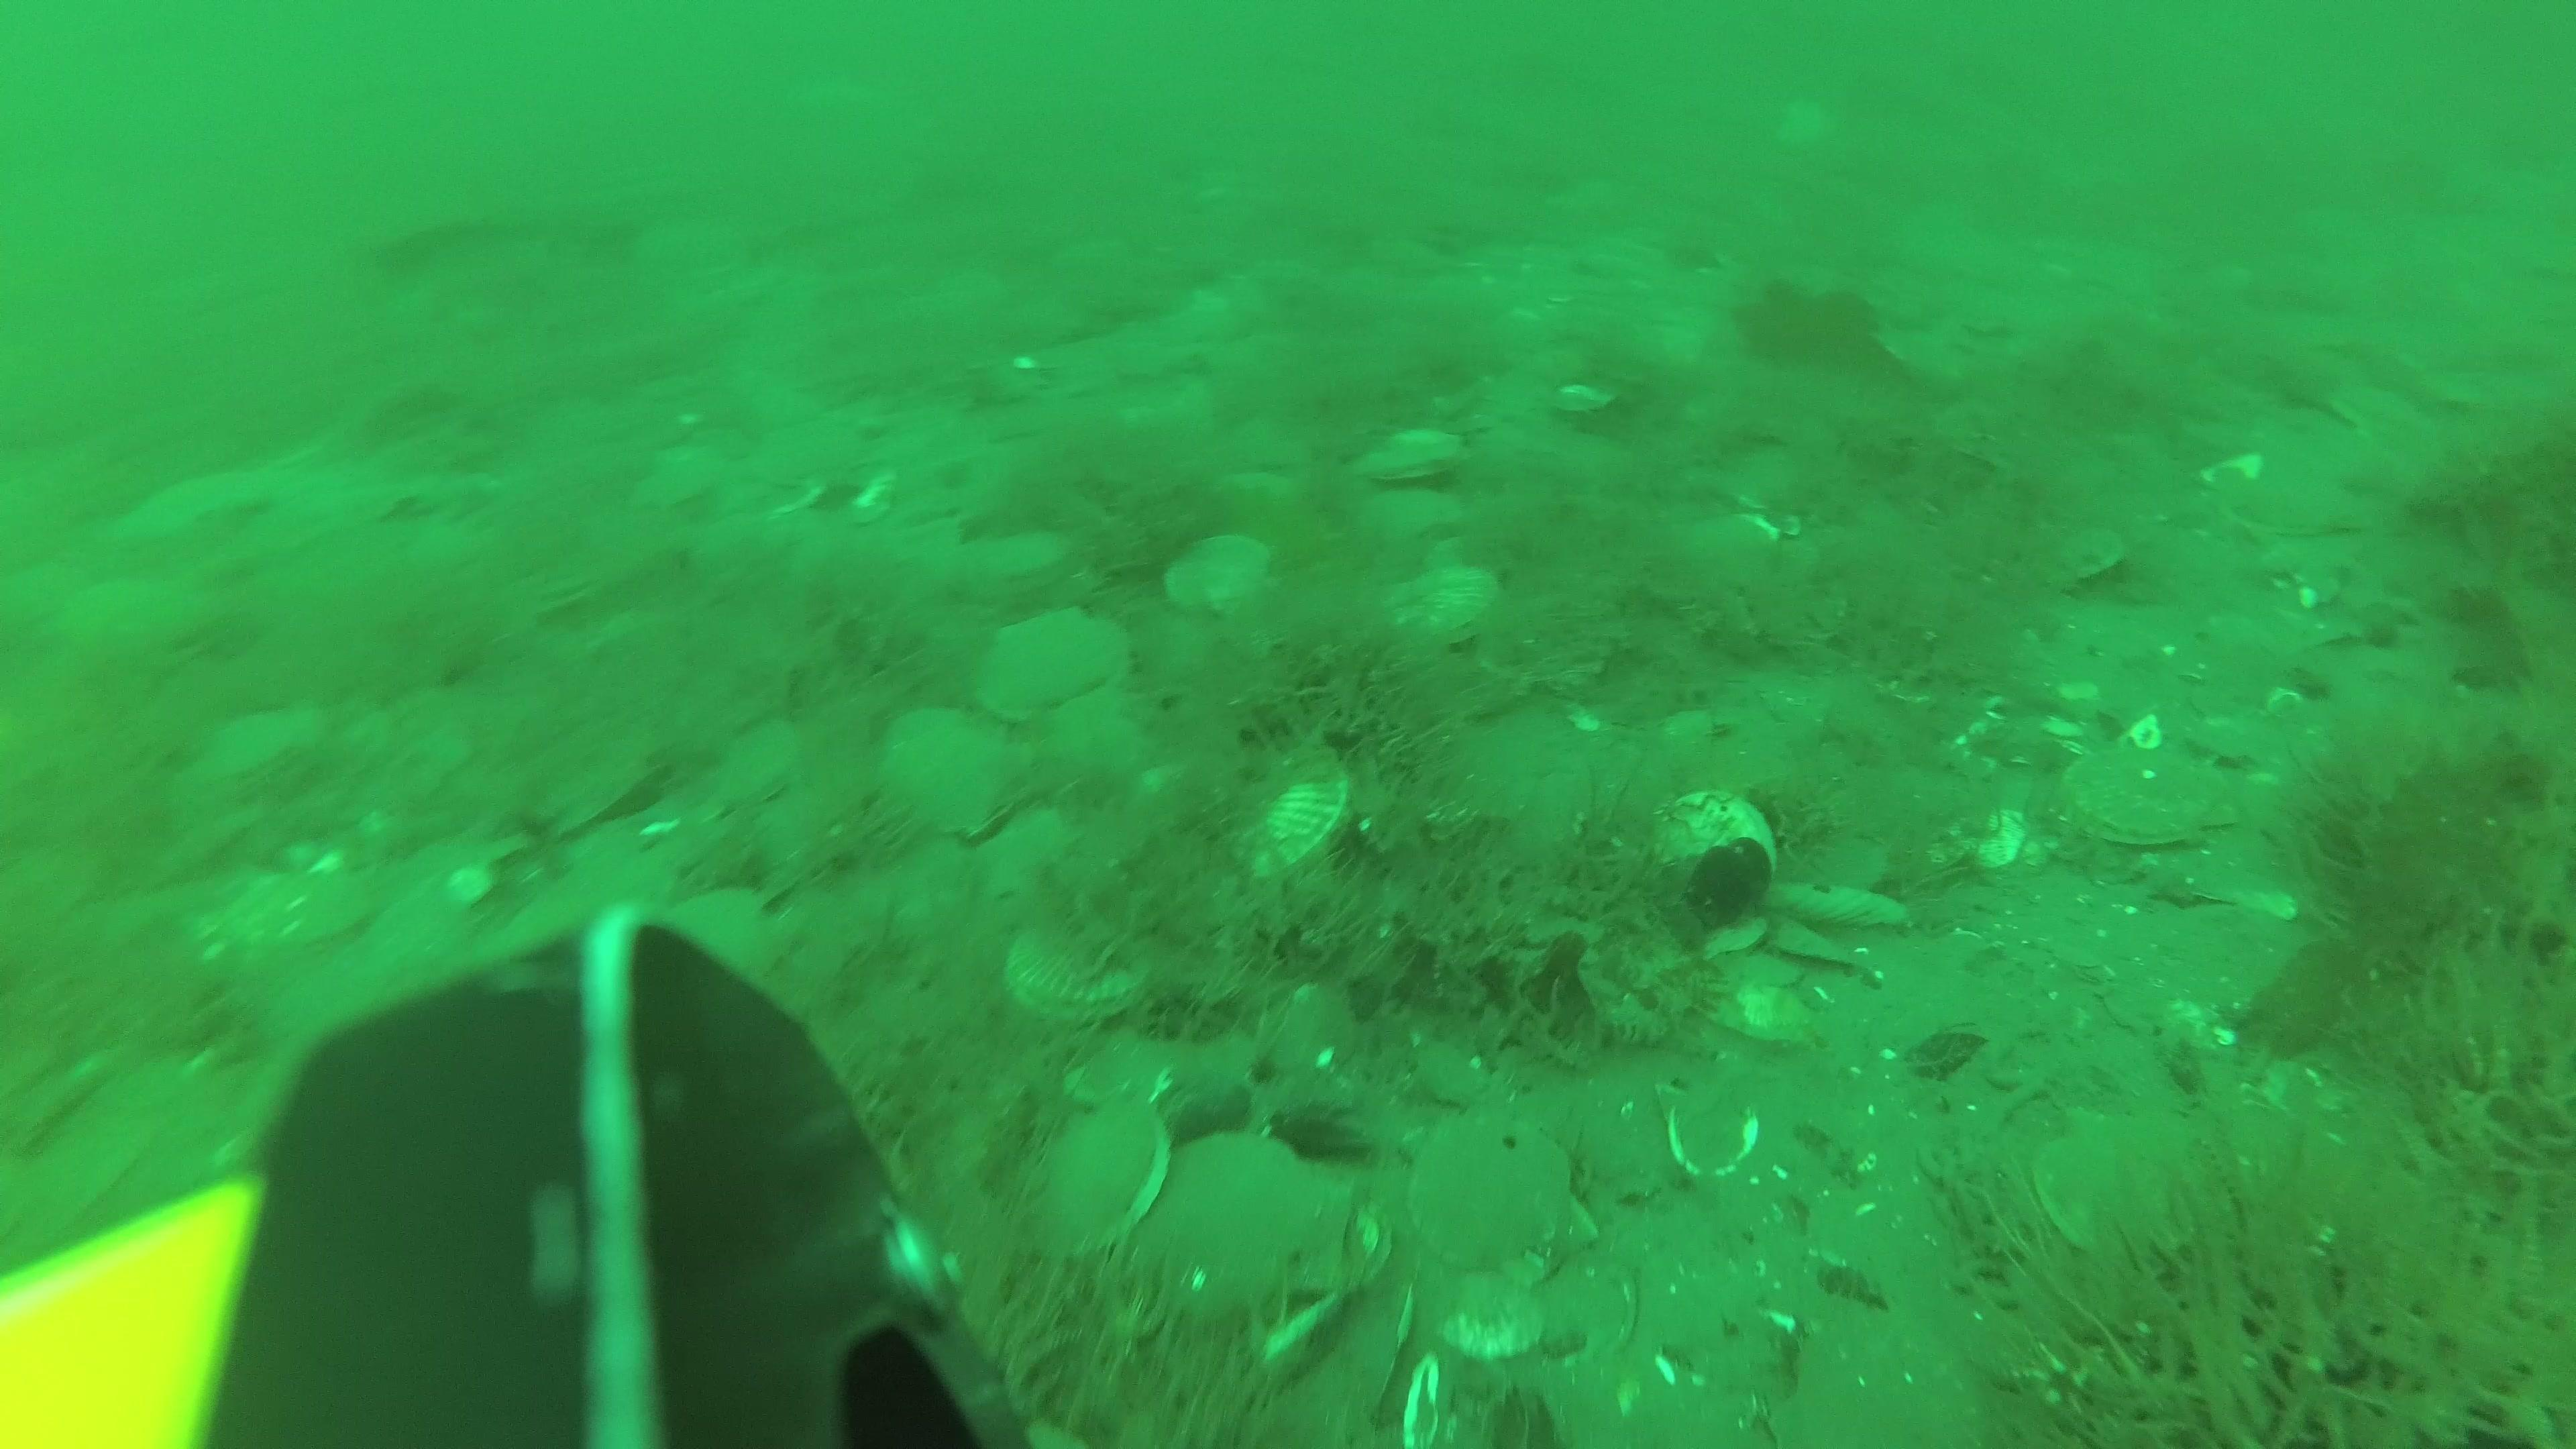scallop: (1145, 1129, 1341, 1334), (2043, 1115, 2204, 1265), (1414, 1116, 1568, 1270), (1044, 1085, 1180, 1254), (2081, 743, 2236, 867), (1008, 920, 1145, 1039), (888, 711, 1019, 833), (1240, 745, 1348, 863), (985, 617, 1122, 711), (964, 520, 1079, 600), (715, 722, 805, 819), (1173, 531, 1270, 621), (203, 708, 304, 794), (1357, 423, 1460, 492), (1362, 488, 1463, 556), (1401, 564, 1491, 632)
